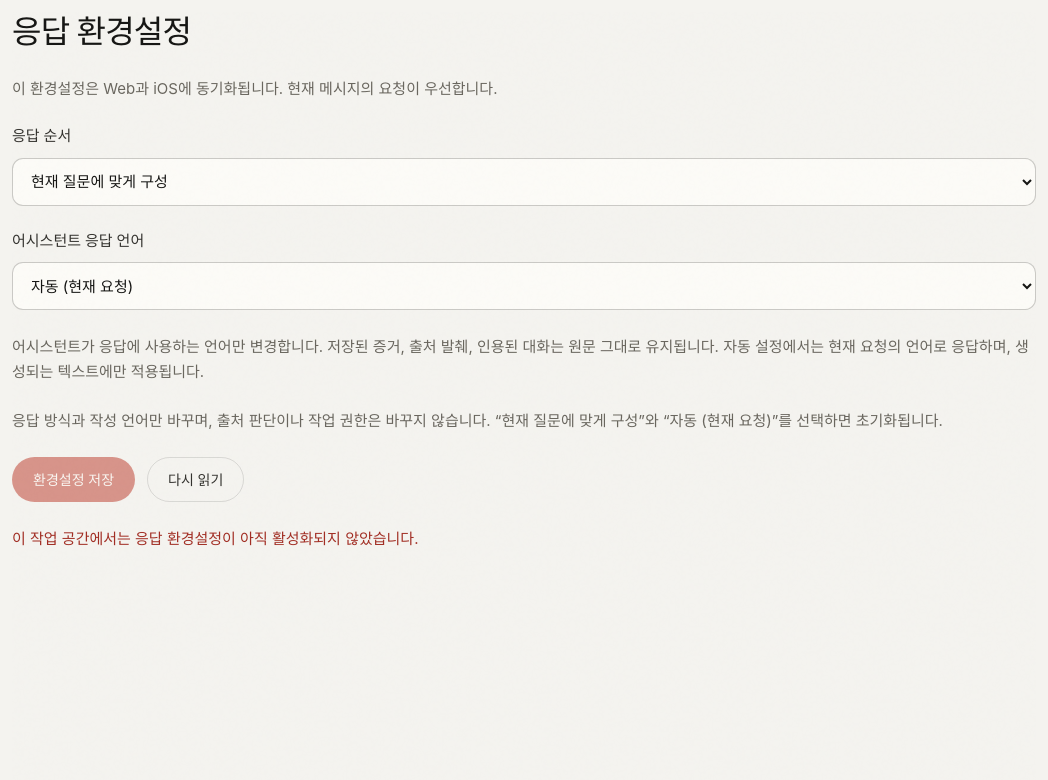
Test case: localizes disabled-workspace and network errors in ko
The image size is (1048, 780).
Check: the message "이 작업 공간에서는 응답 환경설정이 아직 활성화되지 않았습니다." is shown, box top-left (12, 529), bottom-right (418, 548)
Click the button "다시 읽기" at (196, 480), box top-left (147, 457), bottom-right (244, 502)
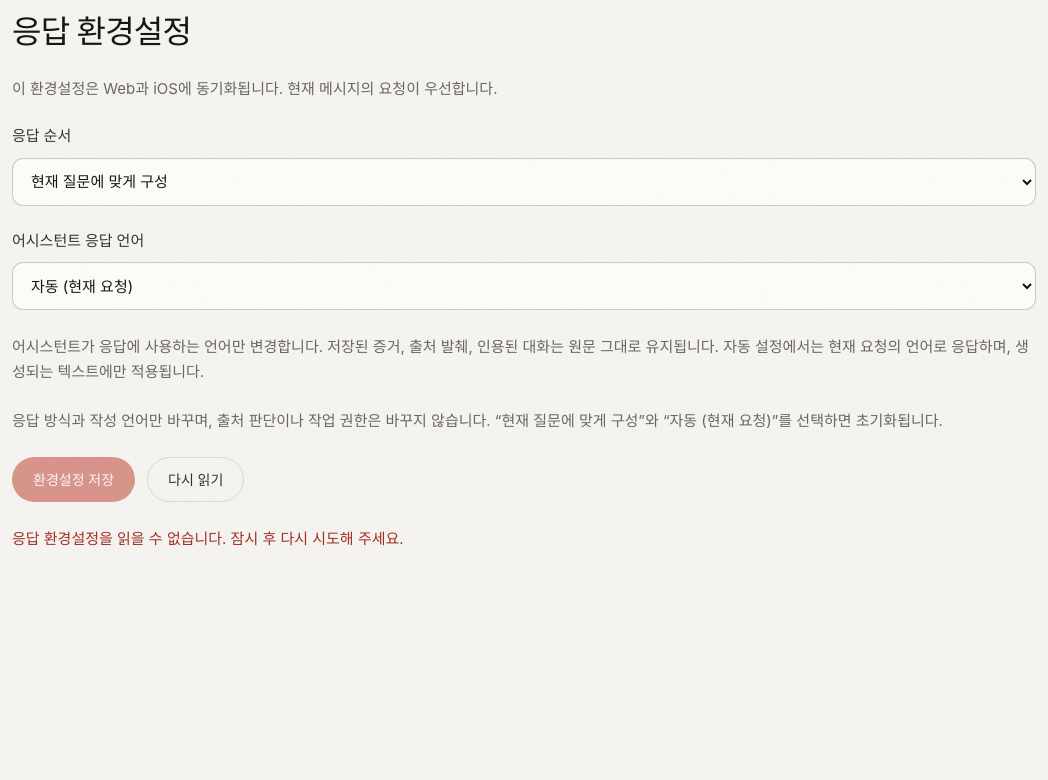
Check: the message "응답 환경설정을 읽을 수 없습니다. 잠시 후 다시 시도해 주세요." is shown, box top-left (12, 529), bottom-right (404, 548)
